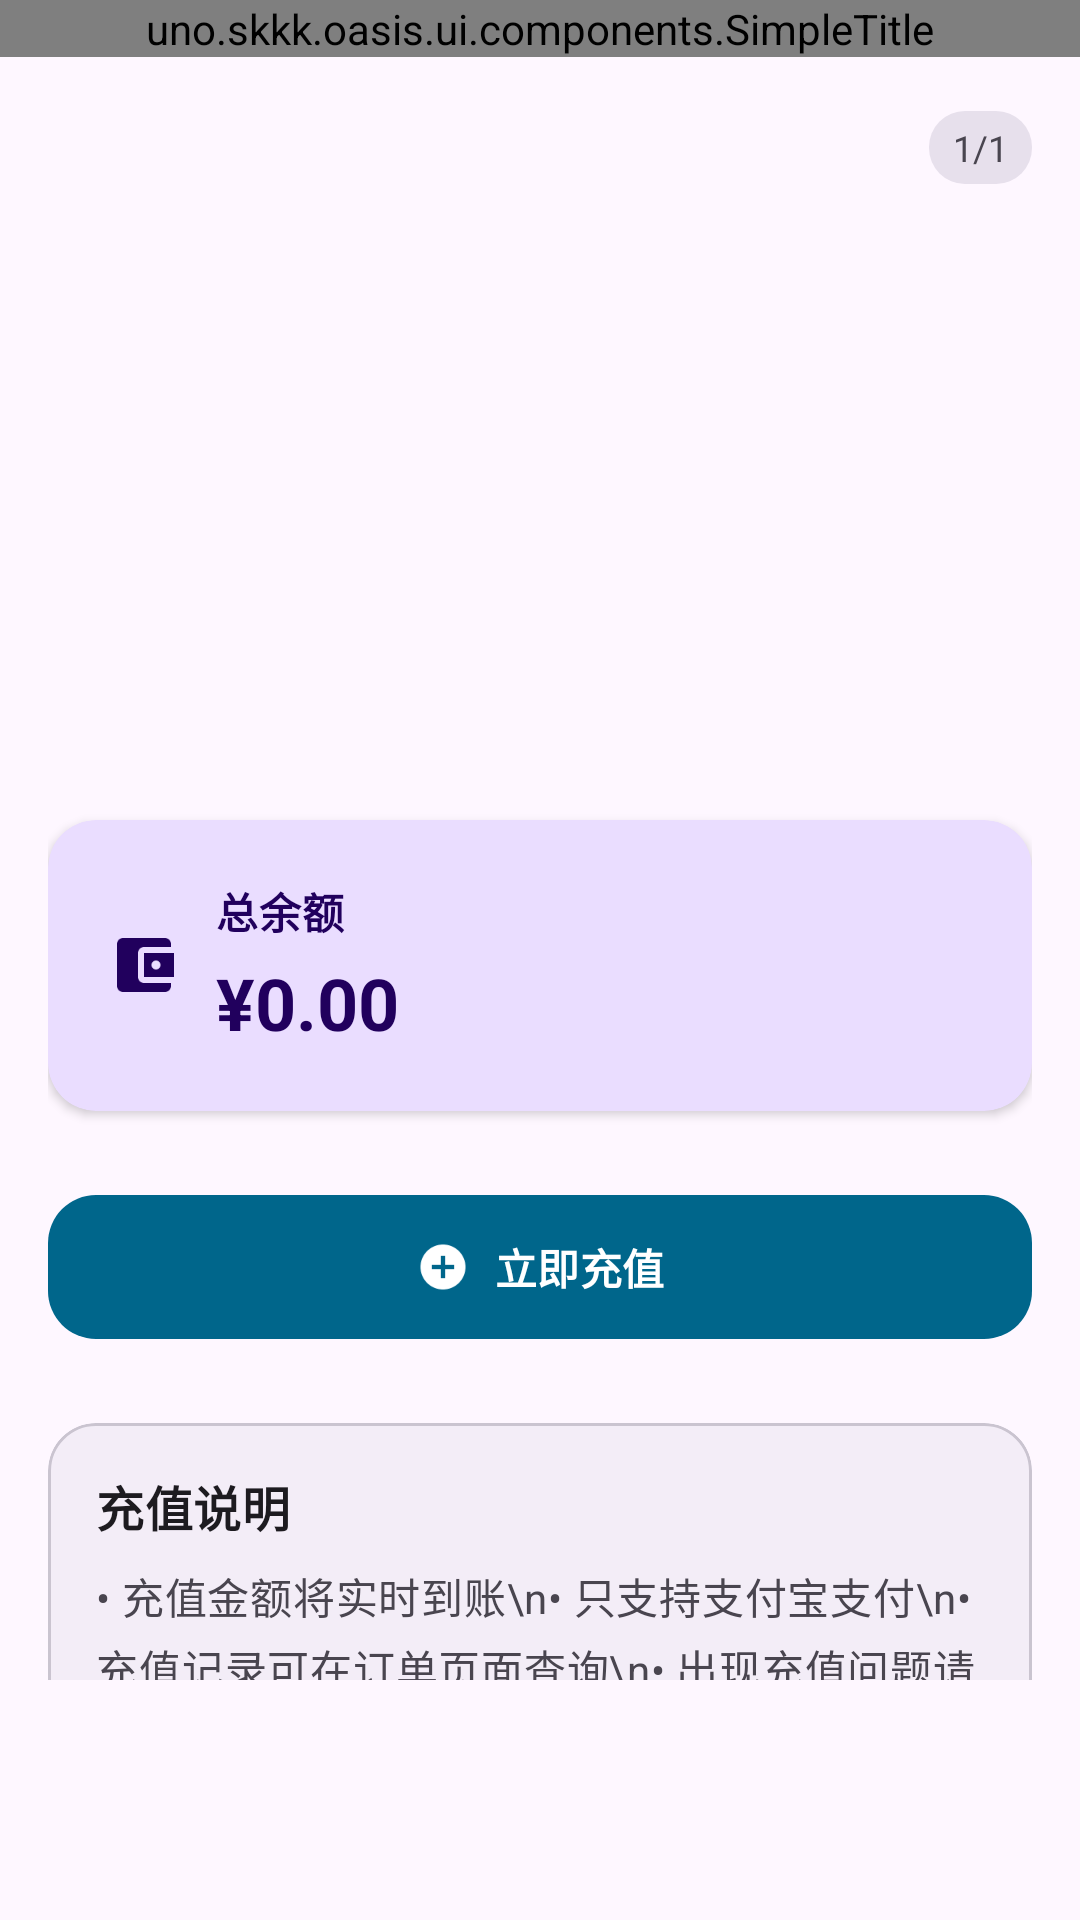

Where icons sit on this 1080px x 1920px app screen, as [x1, y1, x2, y2]:
wallet: [117, 938, 174, 992]
